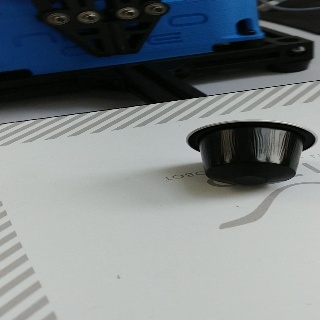capsule_10: (185, 119, 317, 186)
